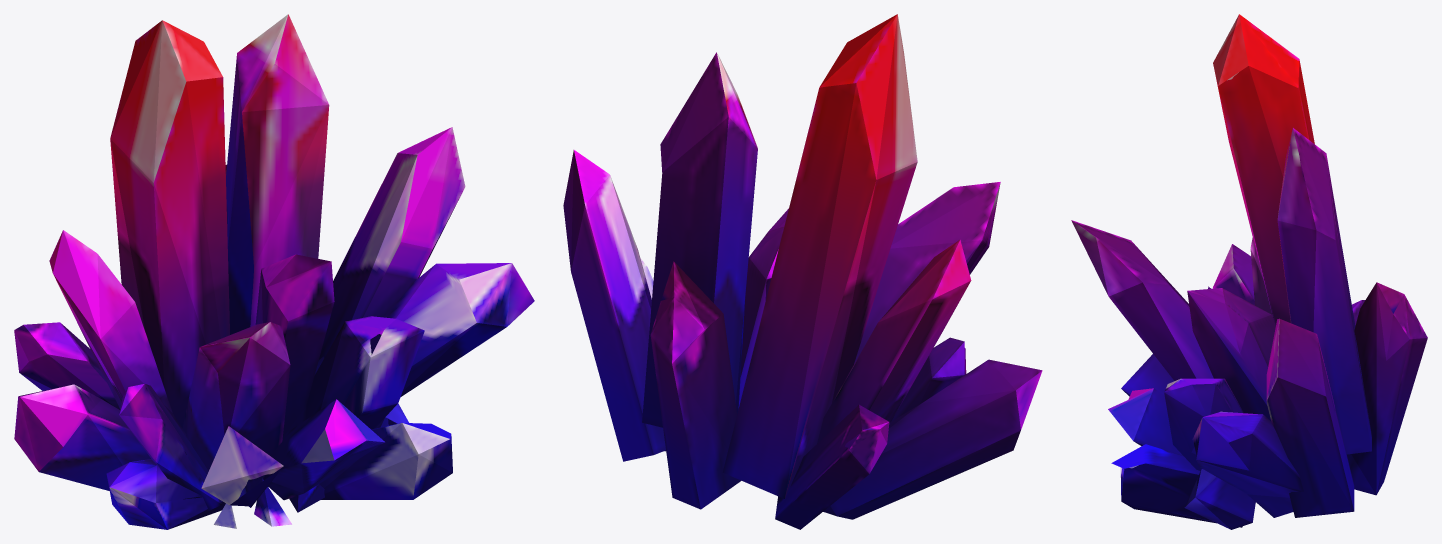
Rendered from Hi_Crystals.fbx.
3 views of the same model, side by side, from view 1: azimuth 30°, elevation 25°; view 2: azimuth 150°, elevation 25°; view 3: azimuth 270°, elevation 25° (orthographic). The views are drawn at different scales.
Visible parts, largest first — view 1: Hi_Crystals; view 2: Hi_Crystals; view 3: Hi_Crystals.
Part boxes in pixels (x1,y1,x2,y2): Hi_Crystals: [14, 14, 534, 529]; Hi_Crystals: [563, 14, 1042, 529]; Hi_Crystals: [1071, 14, 1427, 529].
Bounding box in the file's own units: 25.73 × 25.72 × 18.65.
1 material, 1 textured.
